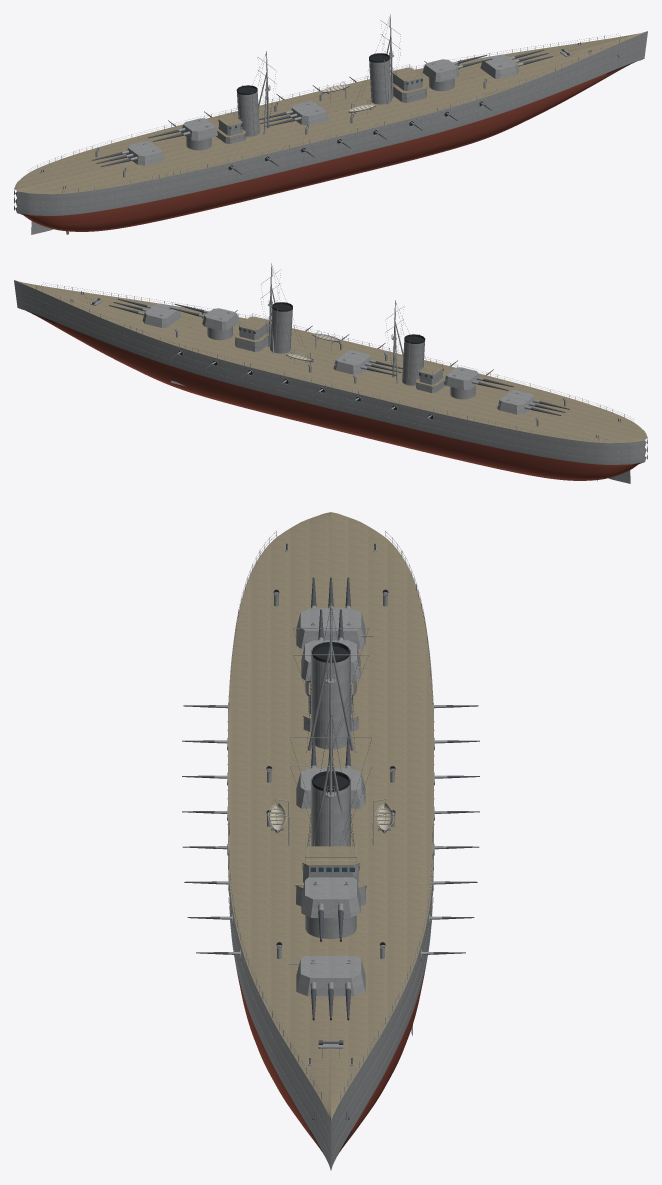
File: andrea_doria.glb
3 renders of one model, top to bottom at view 1: azimuth 30°, elevation 25°; view 2: azimuth 150°, elevation 25°; view 3: azimuth 270°, elevation 25°, orthographic. The views are drawn at different scales.
Visible parts, largest first — view 1: Andrea Doria class; view 2: Andrea Doria class; view 3: Andrea Doria class.
Part boxes in pixels (x1,y1,x2,y2): Andrea Doria class: (14,14,647,234); Andrea Doria class: (14,263,647,483); Andrea Doria class: (182,512,479,1170).
Bounding box in the file's own units: 188 × 38.39 × 38.28.
Materials: 8 (2 with a texture image).
